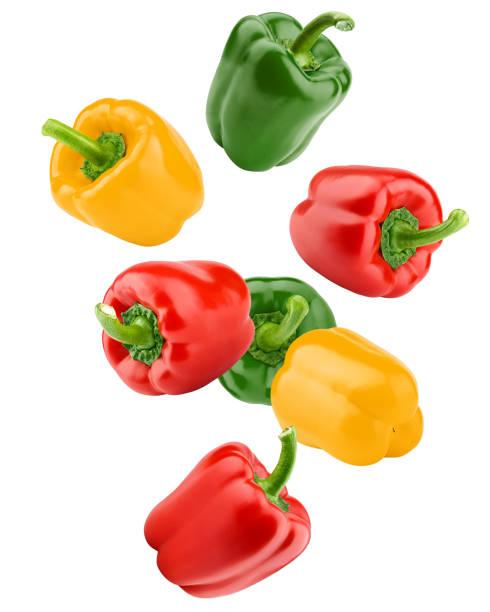Capsicum: (92, 259, 440, 606), (197, 7, 354, 173), (43, 97, 205, 247), (290, 162, 457, 303)
